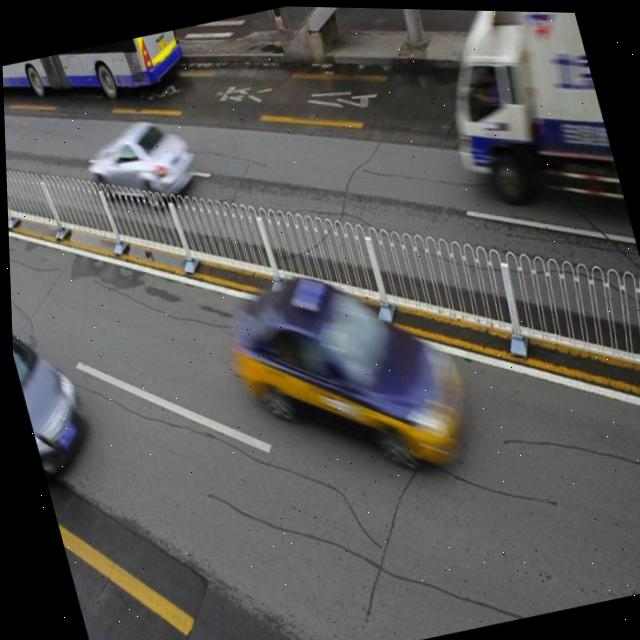bus: (414, 7, 624, 233)
car: (218, 239, 476, 499), (9, 297, 95, 476), (79, 108, 202, 216)
van: (1, 25, 188, 123)
